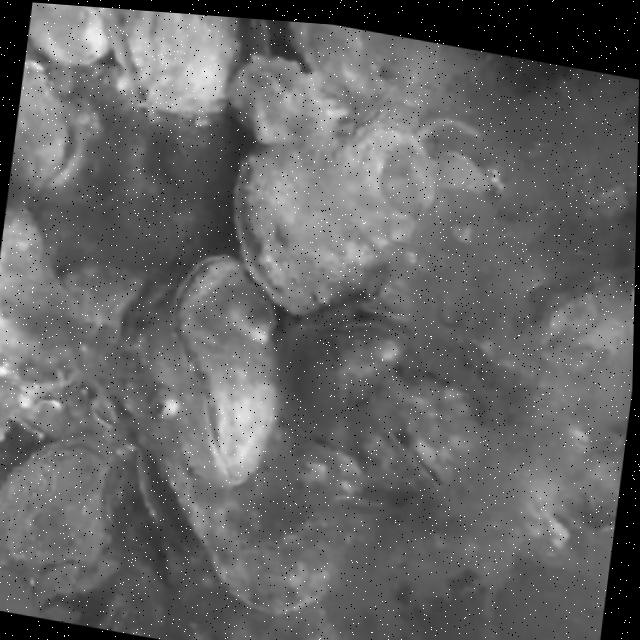Oyster-Closed: (232, 123, 442, 308), (179, 254, 279, 478), (99, 7, 238, 121), (8, 63, 82, 197)
Oyster-Indeterminate: (130, 319, 347, 611), (0, 441, 124, 568), (0, 207, 85, 372), (542, 287, 634, 371), (28, 2, 122, 73)
Oyster-Open: (240, 52, 335, 143)
